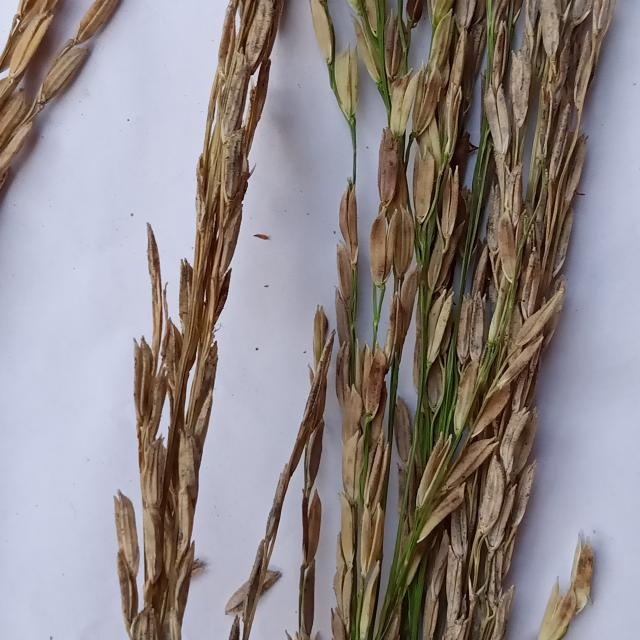Neck_Blast: (310, 0, 616, 640), (113, 0, 290, 640)
